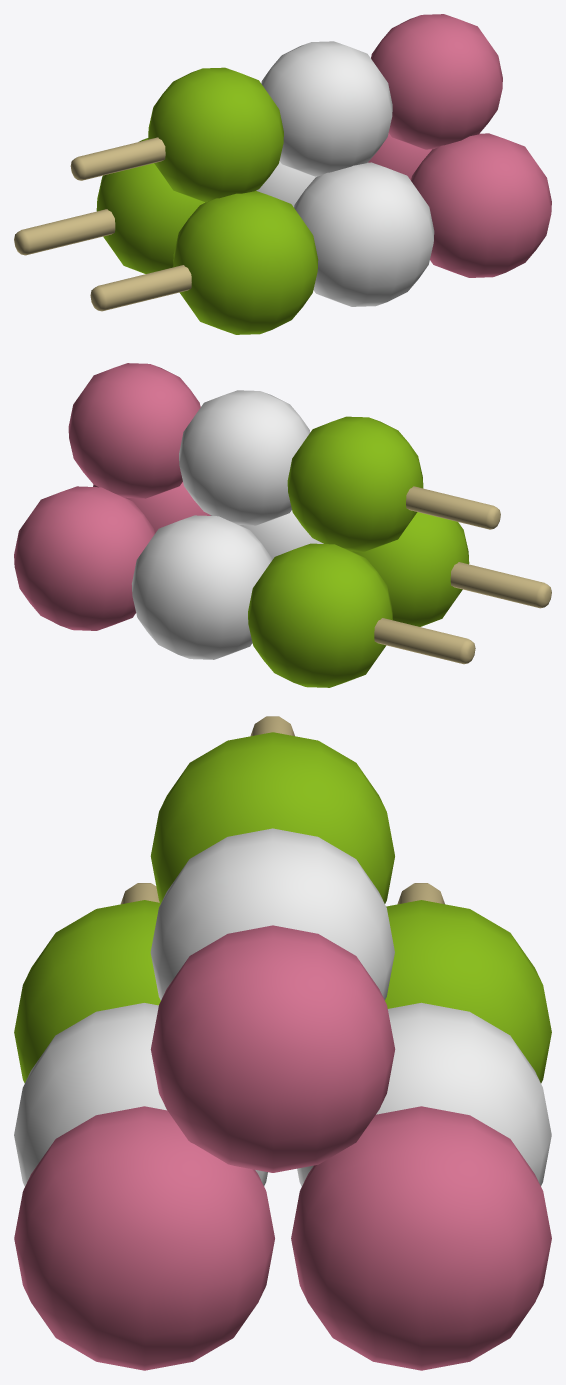
File: quaternius-sushi-restaurant-food-dango.glb
The picture shows the model from 3 angles, top to bottom: view 1: azimuth 30°, elevation 25°; view 2: azimuth 150°, elevation 25°; view 3: azimuth 270°, elevation 25°; orthographic projection. The views are drawn at different scales.
Parts seen in each view (by area): view 1: Food_Dango; view 2: Food_Dango; view 3: Food_Dango.
Boxes of the visible parts, bbox=[...] form: Food_Dango: bbox=[14, 14, 551, 334]; Food_Dango: bbox=[14, 363, 551, 687]; Food_Dango: bbox=[14, 716, 551, 1370].
Size of the model in its own units: 0.9144 by 0.4428 by 0.5256.
Materials: 1 (1 with a texture image).
